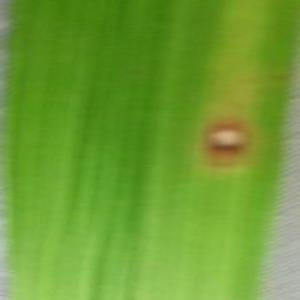Rice_Blast: (175, 83, 258, 178)
